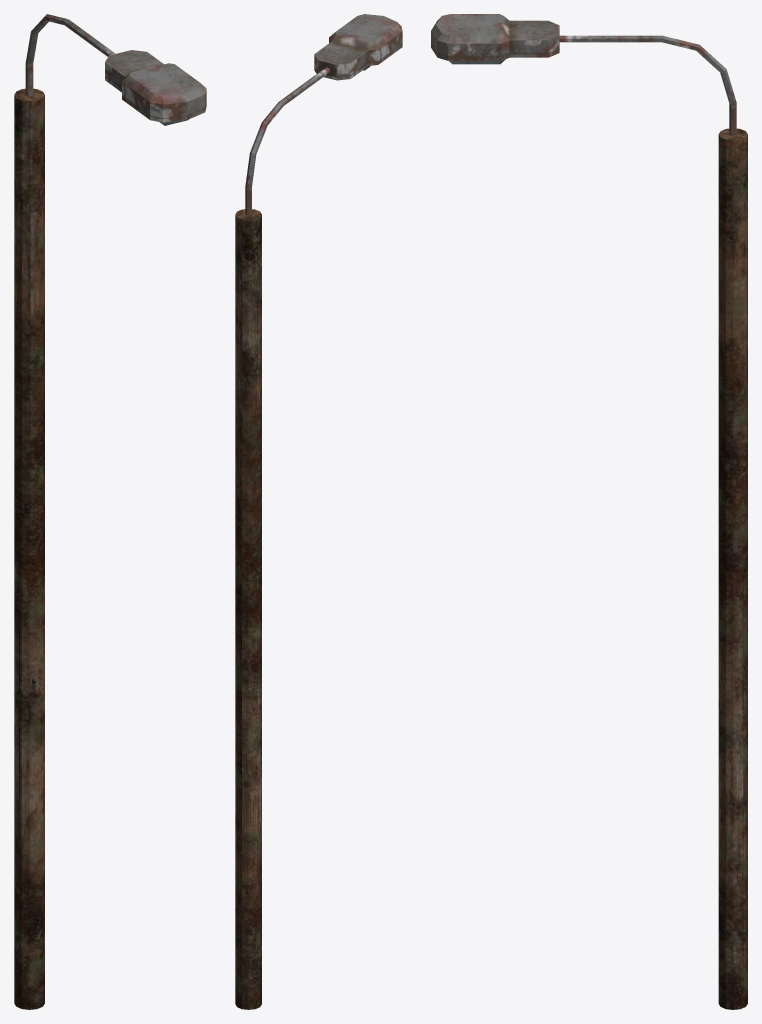
The model's file is lampOld_02.glb.
3 renders of one model, left to right at view 1: azimuth 30°, elevation 25°; view 2: azimuth 150°, elevation 25°; view 3: azimuth 270°, elevation 25°, orthographic. The views are drawn at different scales.
Parts seen in each view (by area): view 1: geometry_0; view 2: geometry_0; view 3: geometry_0.
Boxes of the visible parts, x1=… form: geometry_0: x1=14, y1=14, x2=206, y2=1009; geometry_0: x1=235, y1=14, x2=402, y2=1009; geometry_0: x1=431, y1=14, x2=747, y2=1009.
Bounding box in the file's own units: 0.4272 × 7.39 × 2.17.
Materials: 1 (1 with a texture image).
